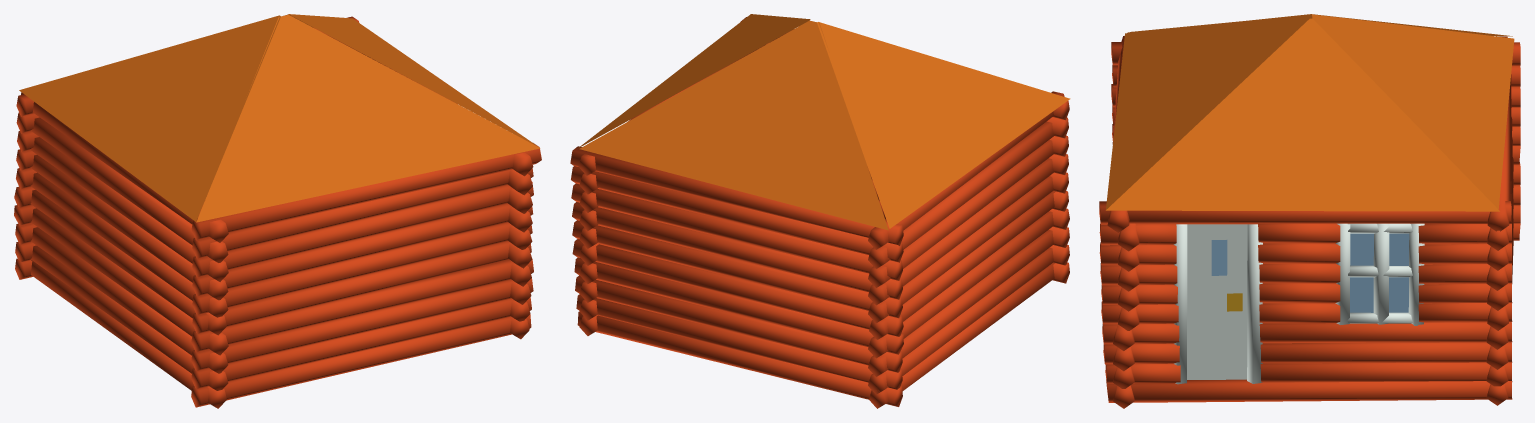
The model's file is house.fbx.
3 views of the same model, side by side, from view 1: azimuth 30°, elevation 25°; view 2: azimuth 150°, elevation 25°; view 3: azimuth 270°, elevation 25° (orthographic). The views are drawn at different scales.
Parts seen in each view (by area): view 1: Cube.001; view 2: Cube.001; view 3: Cube.001.
Part boxes in pixels (x1,y1,x2,y2): Cube.001: (14,14,541,408); Cube.001: (570,14,1070,408); Cube.001: (1099,14,1520,408).
Bounding box in the file's own units: 929 × 756 × 926.
